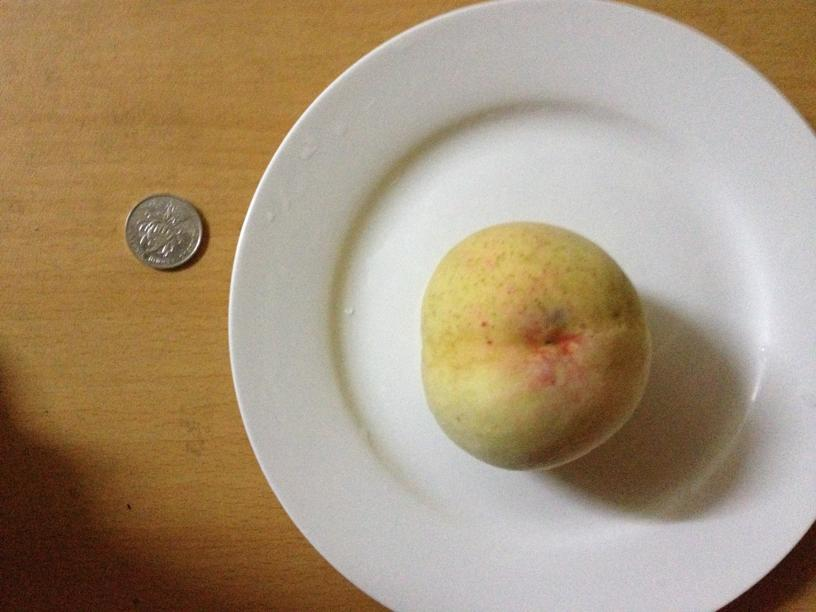coin: (121, 192, 207, 272)
peach: (417, 218, 652, 474)
